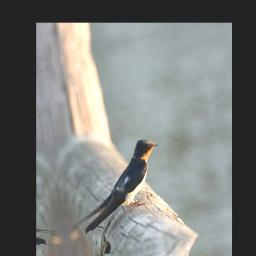Swallow: (58, 131, 172, 239)
